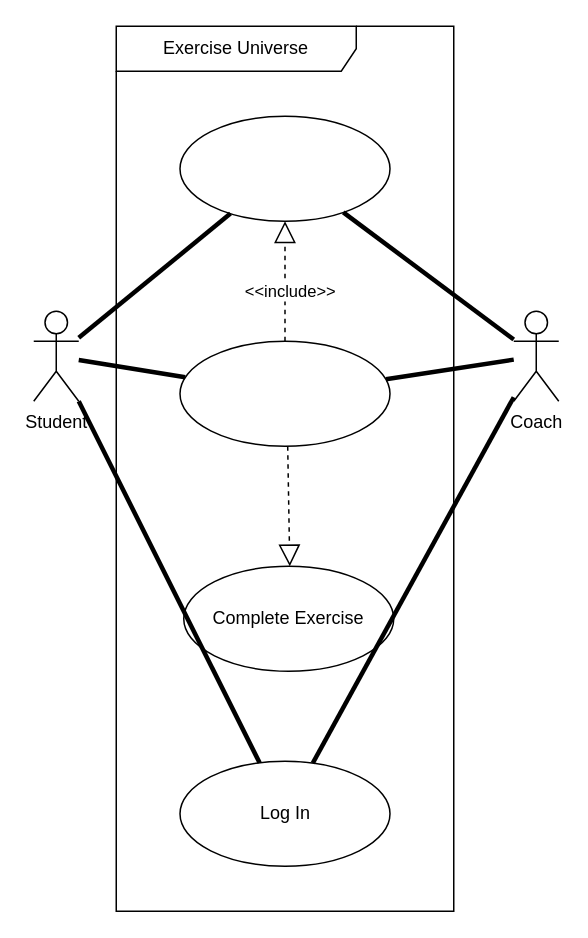
This 588x938 diagram has some shape labels left out. The centre of each missing label's shape, as x and y in pixels:
"Make Exercises" belongs at point (284, 393).
"View Exercises" belongs at point (284, 168).
